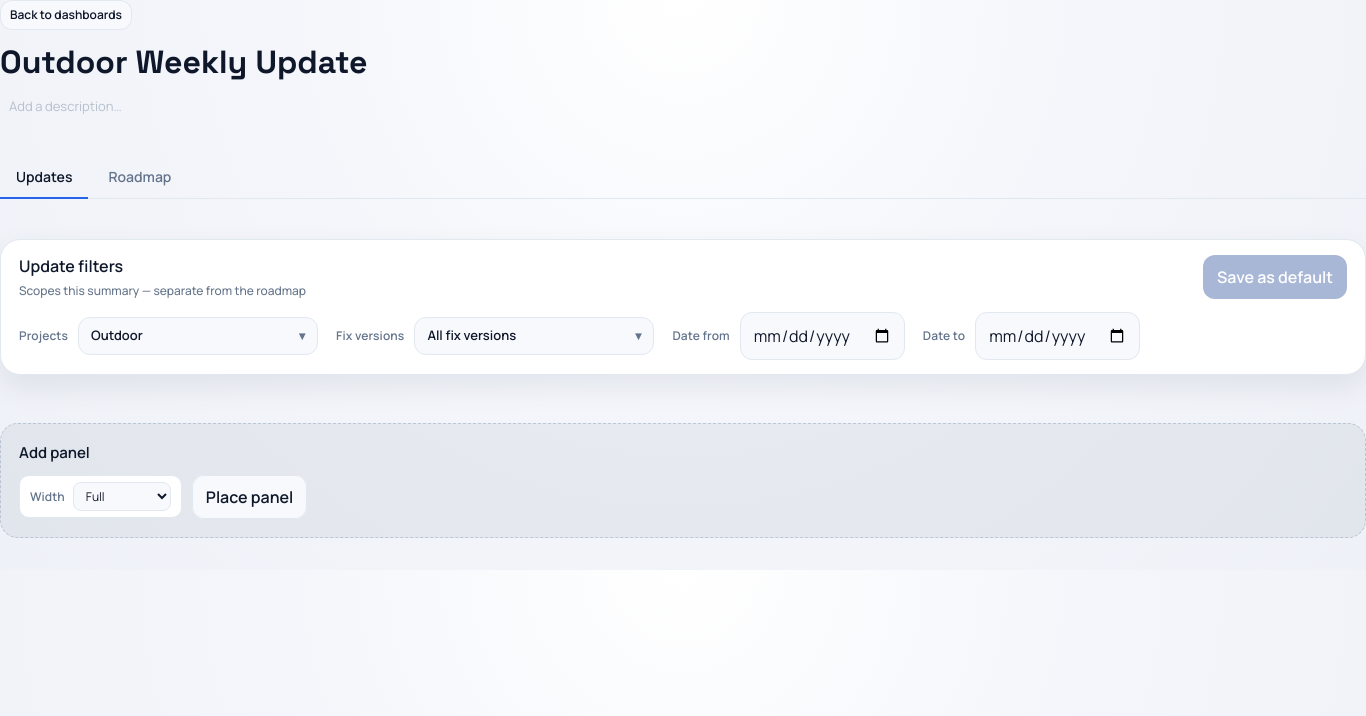
Test: Filters › does not disable the Save filters button when date range is valid
Click the tab "Roadmap" at (140, 178), box [92,156,187,199]
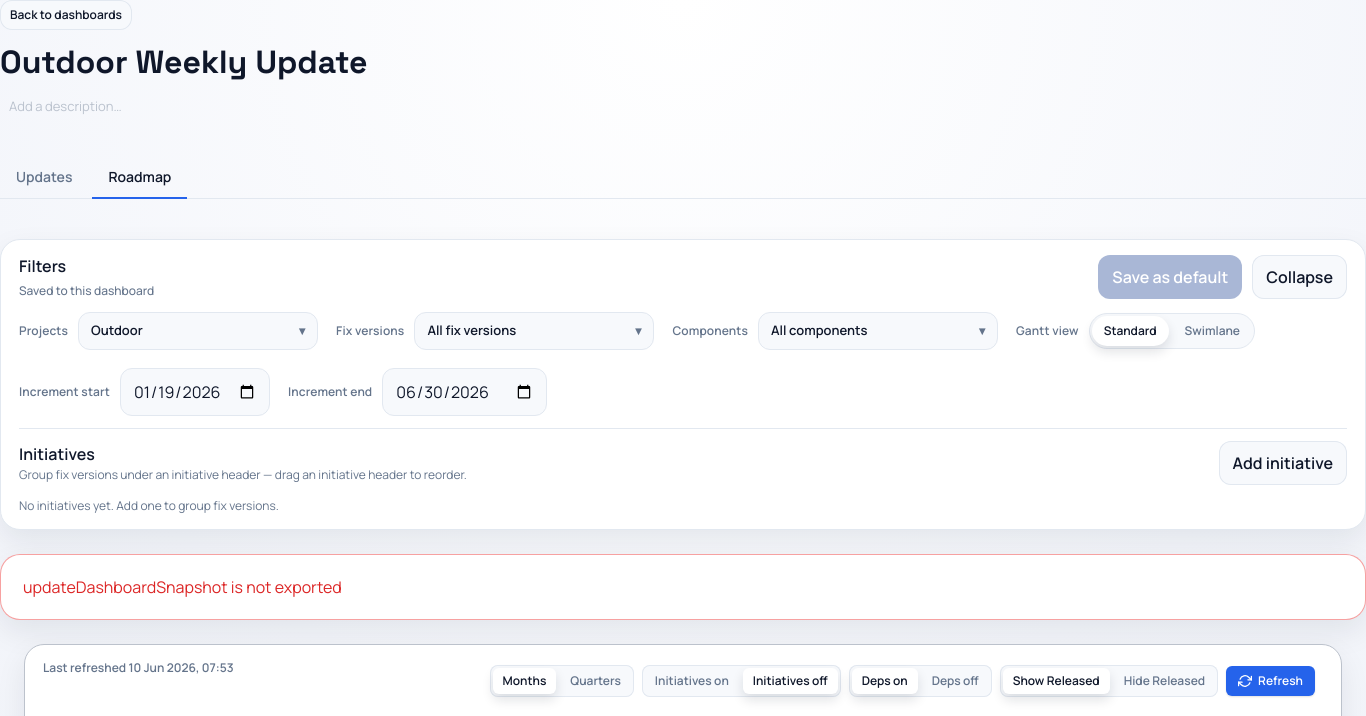
Type "2026-01-20" into the date field showing "2026-01-19" next to "Increment start" at (195, 392), box [120,368,270,416]
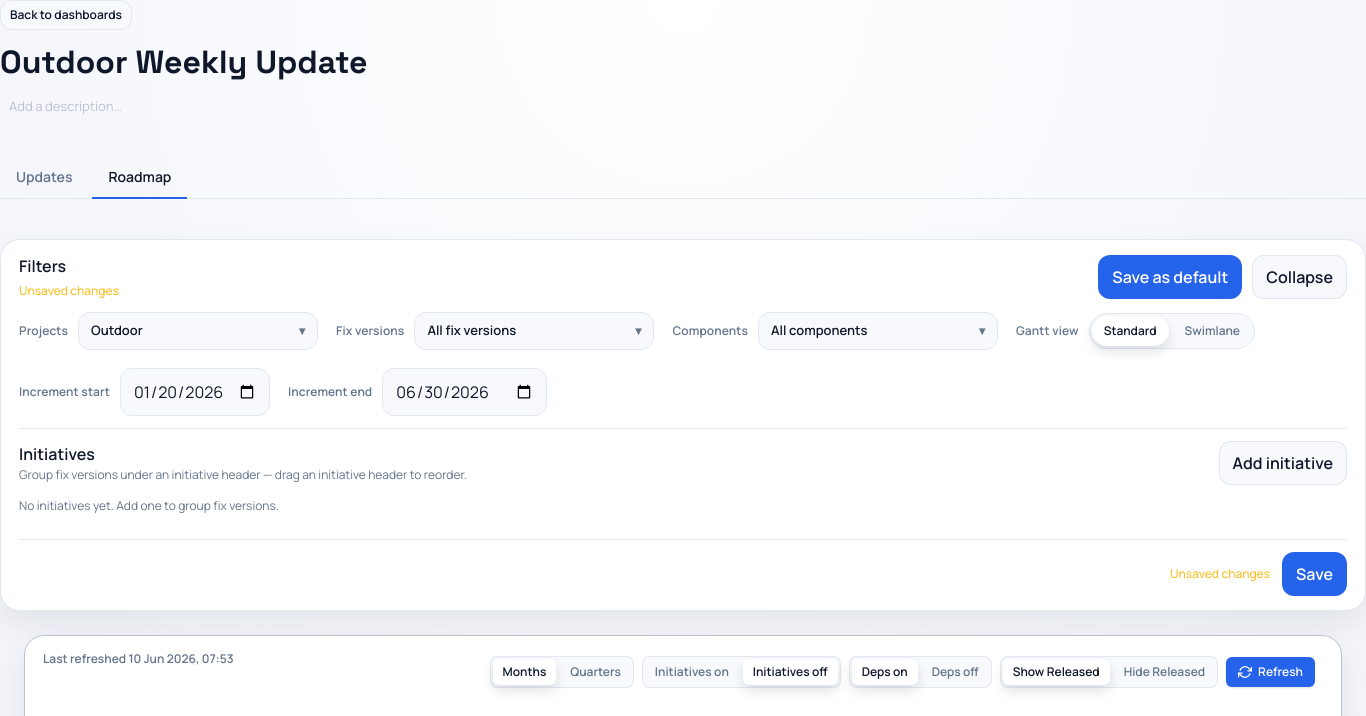
Now the button "Save as default" is enabled, box [1098,255,1242,299]
